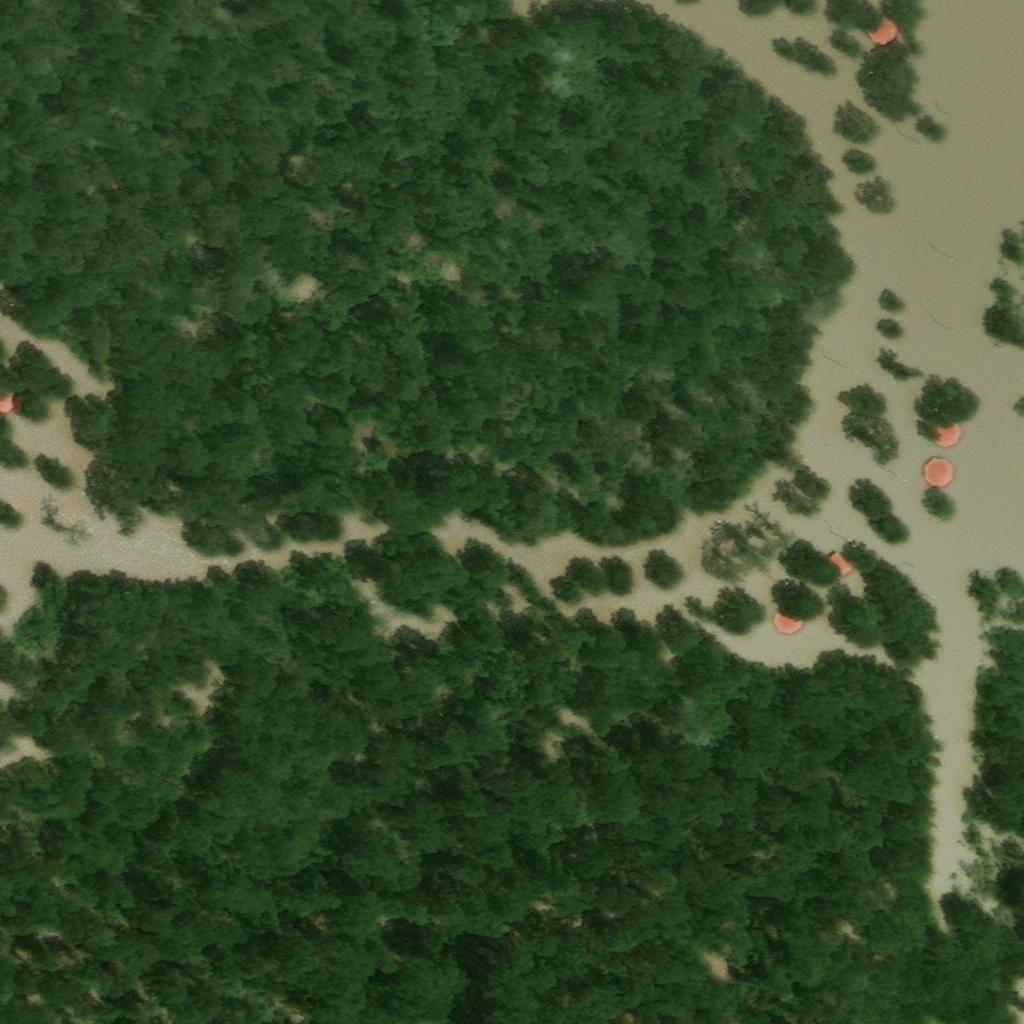major_damage: (817, 551, 851, 584), (929, 417, 962, 449), (772, 607, 804, 639), (867, 15, 898, 46), (923, 458, 952, 489), (0, 385, 15, 416)
